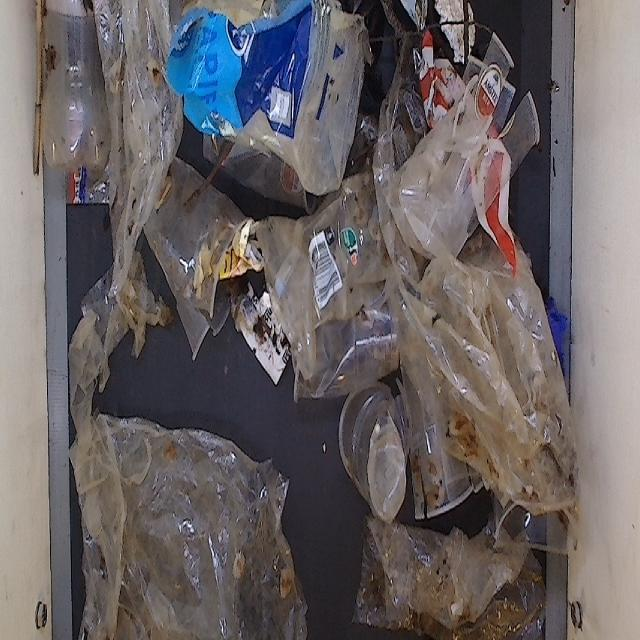pet_bottles: (135, 130, 253, 366), (42, 0, 112, 191)
plastic_cups: (398, 38, 547, 260), (391, 310, 487, 526), (335, 358, 412, 529)
plastic_films: (256, 201, 581, 526), (67, 255, 305, 640), (170, 0, 372, 200), (348, 527, 567, 640), (96, 0, 181, 279)
styrofoam: (432, 0, 486, 63)
